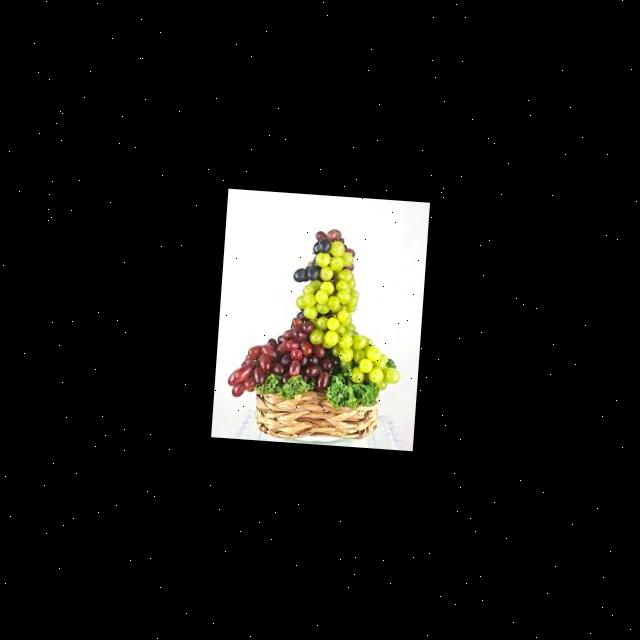grape: (227, 333, 390, 400), (297, 230, 358, 344)
